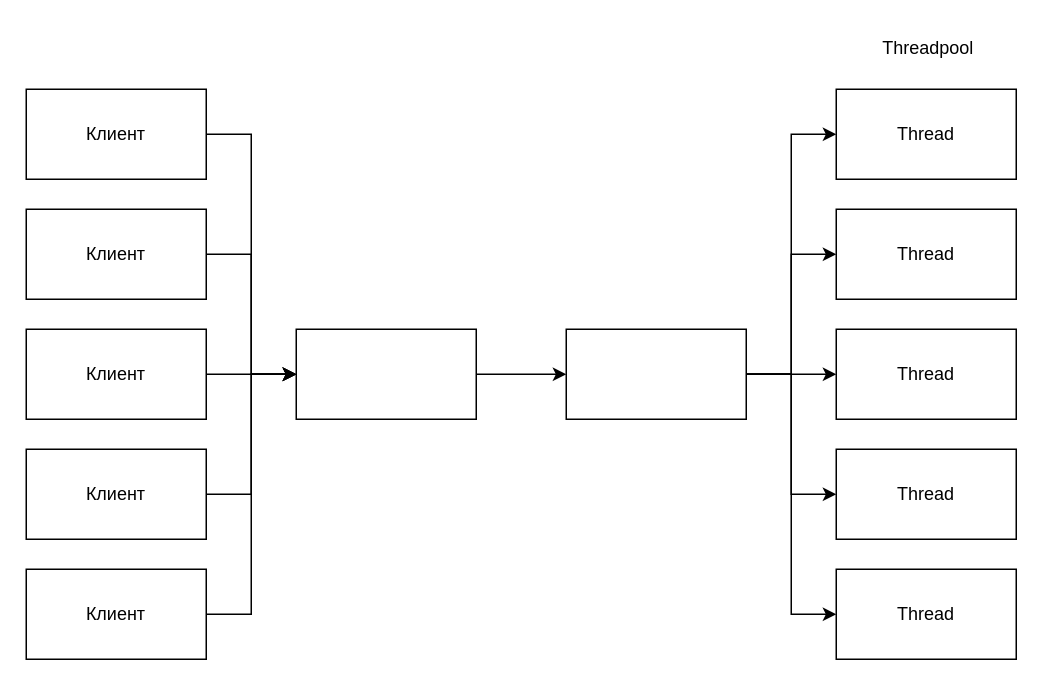
The diagram is 1043 pixels wide and 686 high, and some of its shapes have lost their labels. Here are the shapes that lost their labels. From the top down, the centre of each, then its label:
the point at 385,373: Сокет
the point at 655,373: Listener
